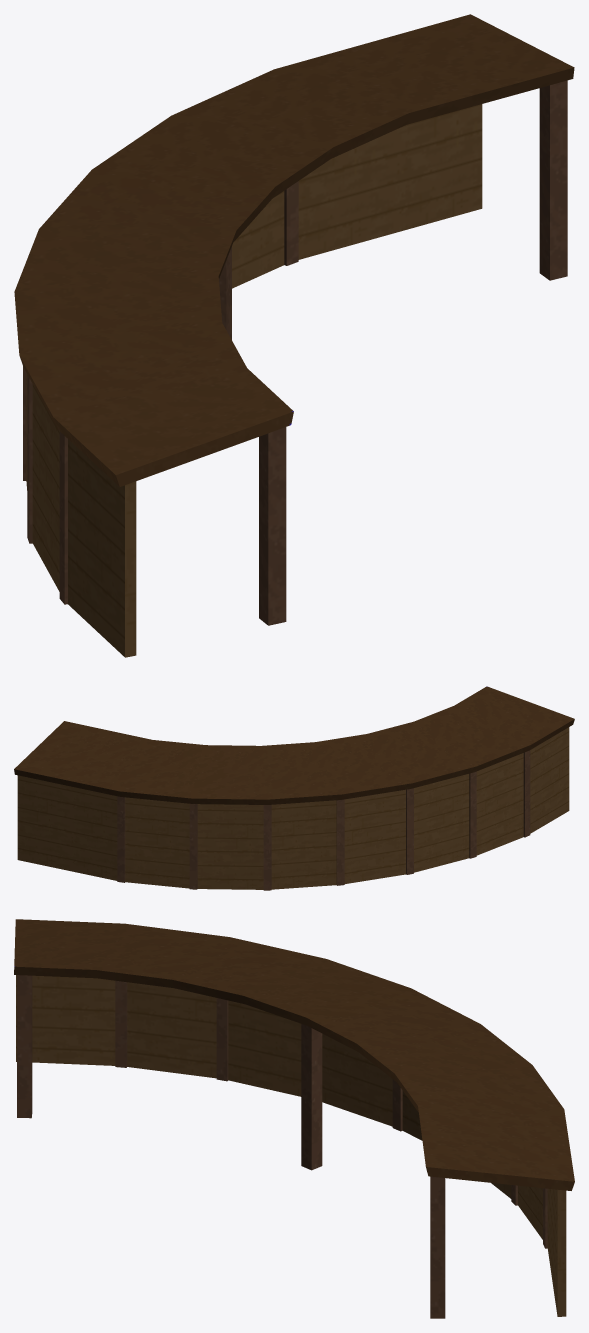
Rendered from L1_Market_P2.fbx.
The picture shows the model from 3 angles, top to bottom: view 1: azimuth 30°, elevation 25°; view 2: azimuth 150°, elevation 25°; view 3: azimuth 270°, elevation 25°; orthographic projection. The views are drawn at different scales.
Parts seen in each view (by area): view 1: L1_Market_P2; view 2: L1_Market_P2; view 3: L1_Market_P2.
Part boxes in pixels (box(x1,y1,x2,y2)): L1_Market_P2: box(14, 14, 574, 657); L1_Market_P2: box(14, 686, 574, 890); L1_Market_P2: box(14, 919, 574, 1318).
Bounding box in the file's own units: 1064 × 289 × 958.
1 material, 1 textured.
